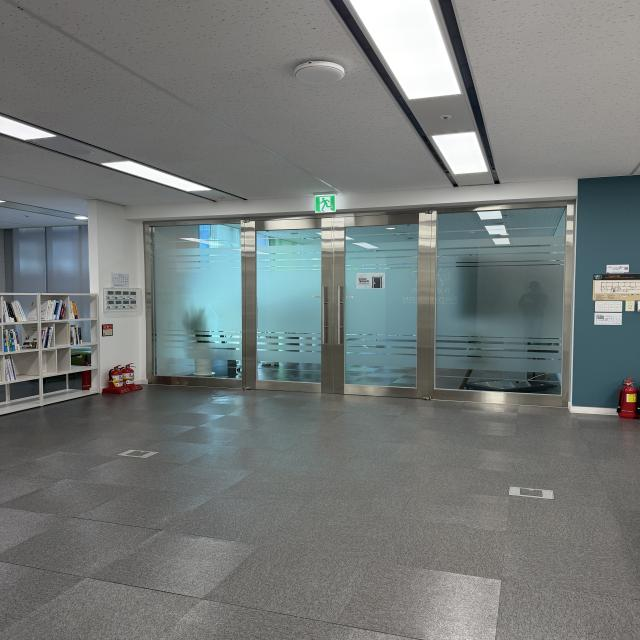front_door: (144, 199, 575, 408)
